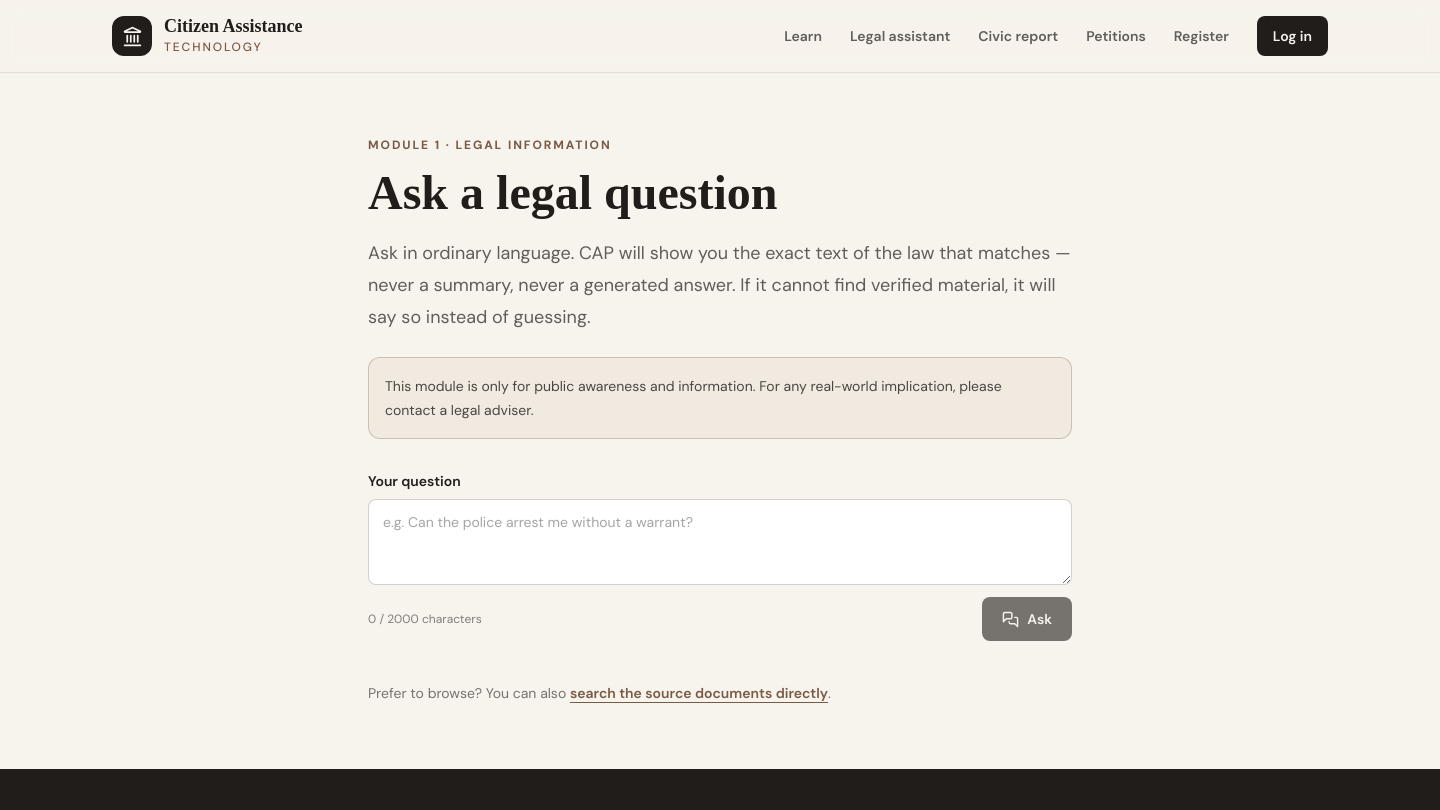
Test: LegalAssistantPage › submits the question to the Node API and displays the deterministic answer
Type "Can a woman be arrested at night?" into the text box labelled "Your question". click: x=720, y=542
box: [368,499,1072,585]
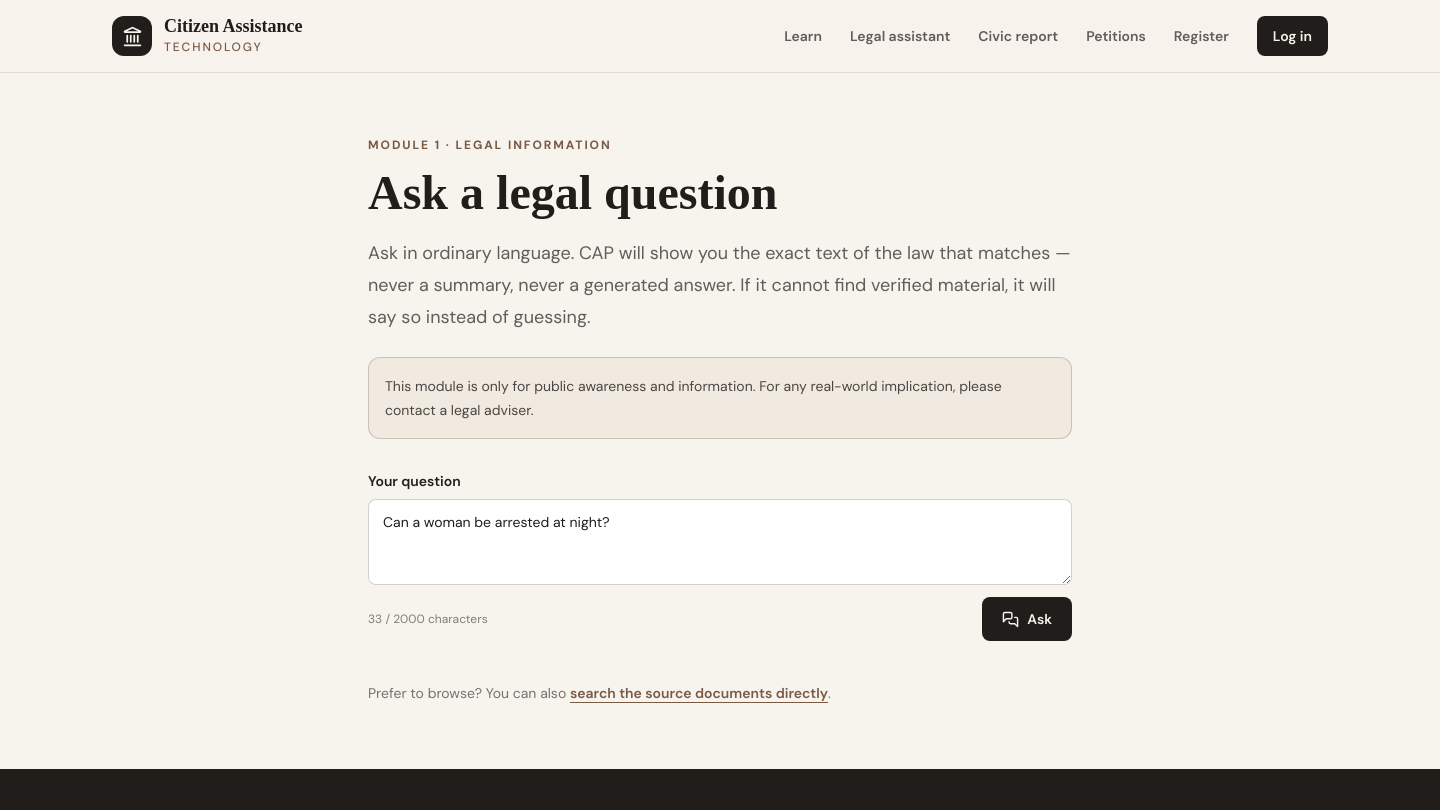
Click the button "Ask". click: x=1027, y=619
box: [982,597,1072,641]
(page scrolled)
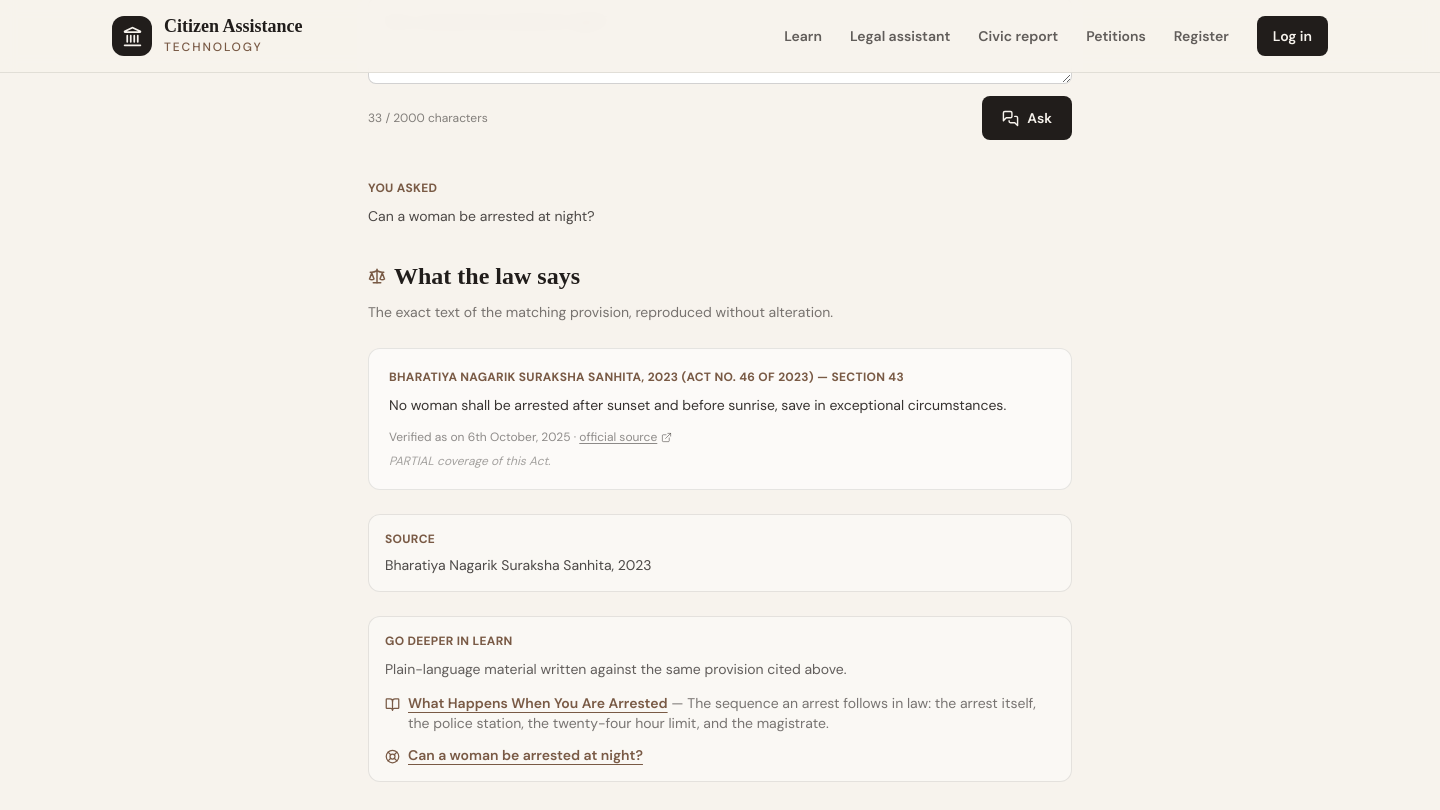
Result: the heading "What the law says" is shown at [394,260,580,292]
Result: the text "No woman shall be arrested after sunset and before sunrise, save in exceptional circumstances." is shown at [389,396,1006,414]
